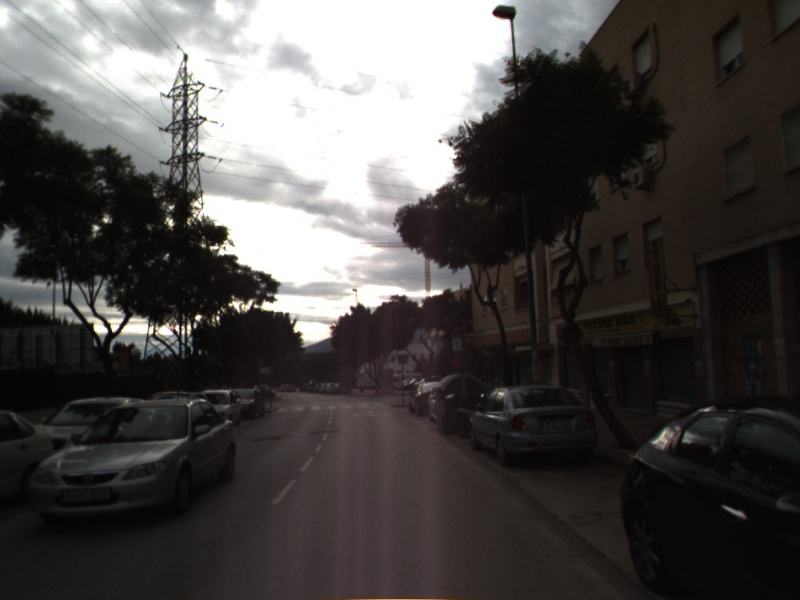STRAIGHT_LEFT_RIGHT: (350, 407, 394, 420)
